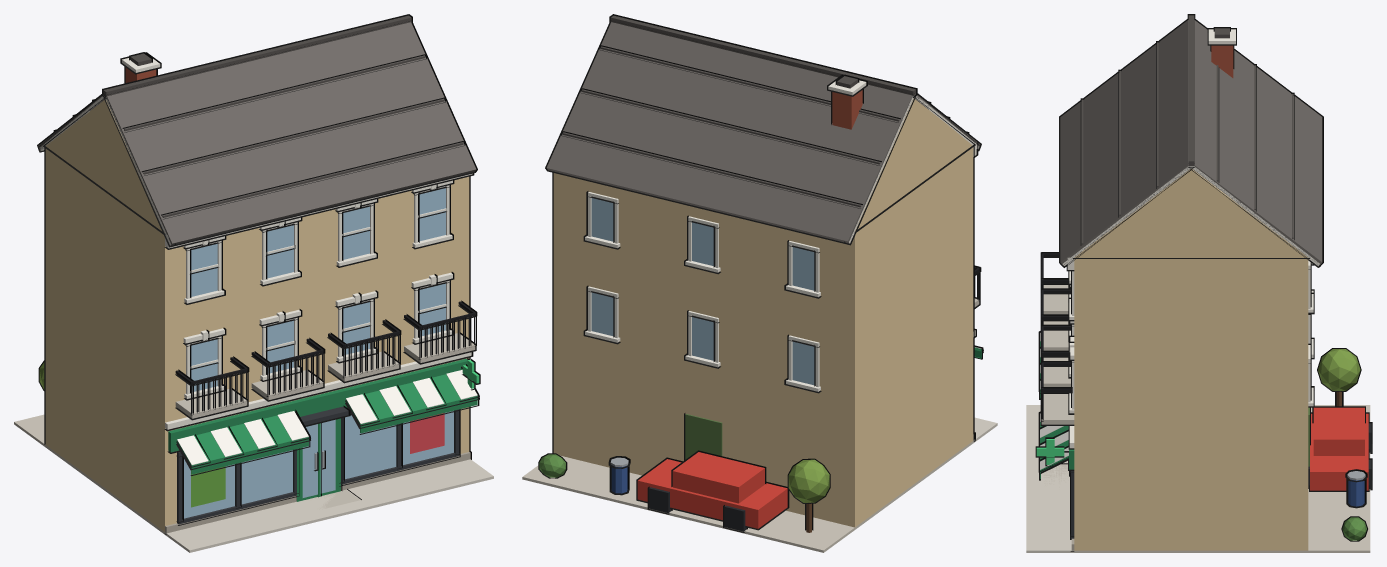
Rendered from Blok_duz_3k_1.fbx.
The picture shows the model from 3 angles, left to right: view 1: azimuth 30°, elevation 25°; view 2: azimuth 150°, elevation 25°; view 3: azimuth 270°, elevation 25°; orthographic projection. The views are drawn at different scales.
Visible parts, largest first — view 1: Blok_duz_3k_1; view 2: Blok_duz_3k_1; view 3: Blok_duz_3k_1.
Boxes of the visible parts, x1,y1,x2,y2 form: Blok_duz_3k_1: (14,14,493,552); Blok_duz_3k_1: (522,14,997,552); Blok_duz_3k_1: (1026,14,1372,552).
Size of the model in its own units: 10.14 by 12.96 by 10.07.
